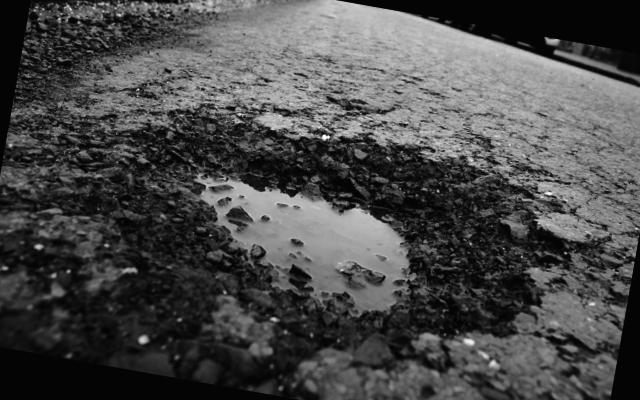Pothole: (118, 98, 604, 400)
